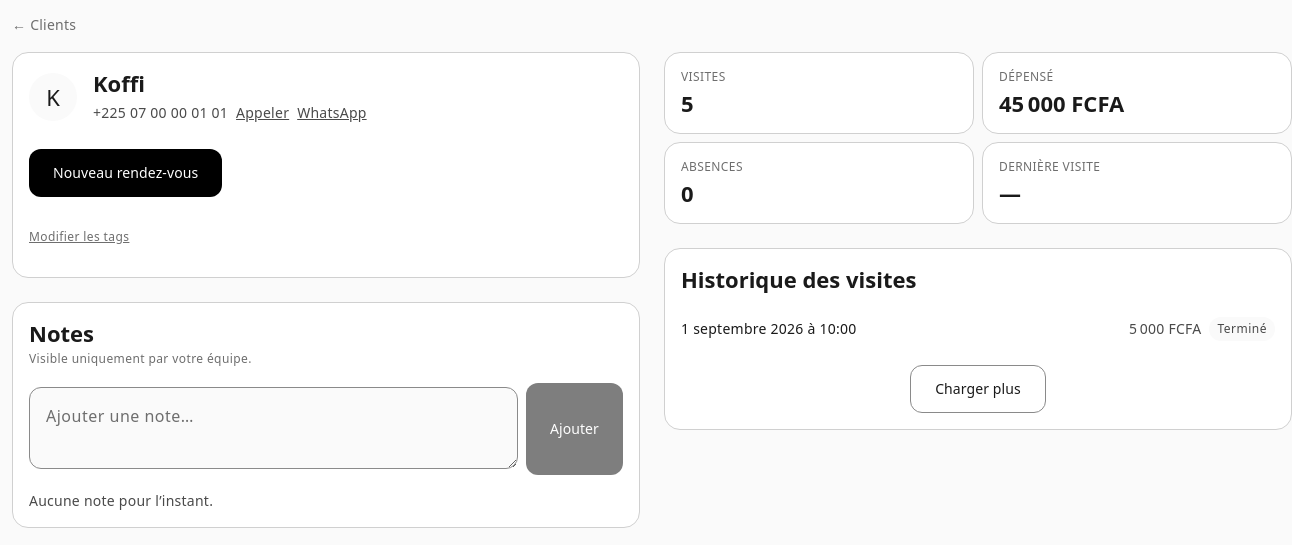
Test: La fiche client — the visit history (B4.1) › « Charger plus » that fails says so and asks for the SAME page again — never skips one
This screenshot has width=1292, height=545.
Step 1. Click the button "Charger plus" → click(978, 389), box [910,365,1046,413]
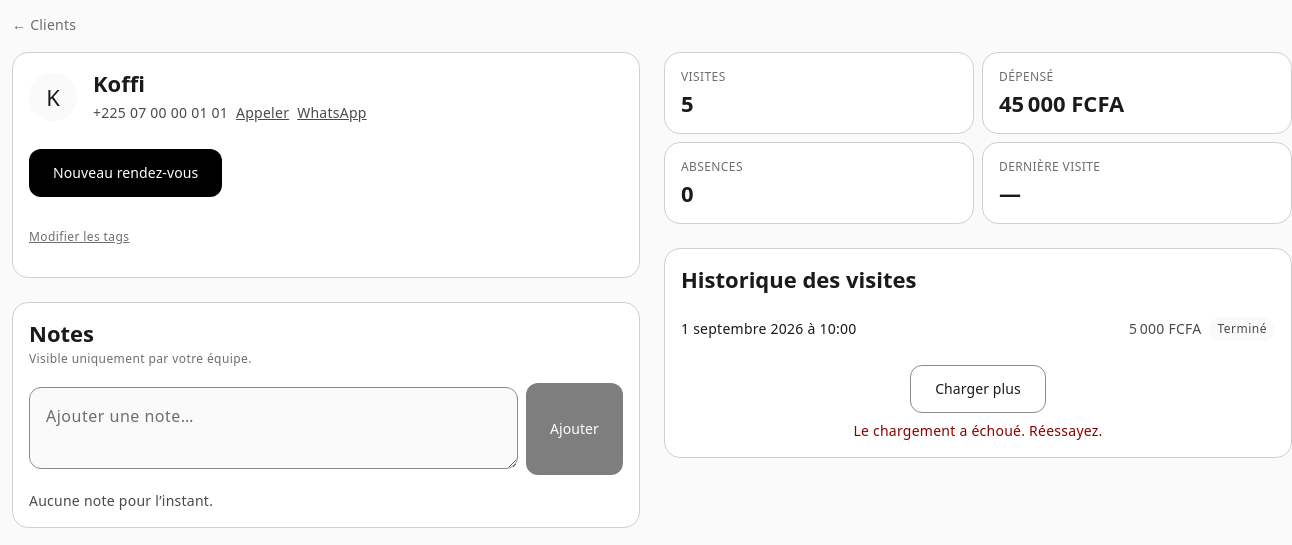
Expected: the text "Le chargement a échoué. Réessayez." is shown, [853,421,1103,440]
Step 2. Click the button "Charger plus" → click(978, 389), box [910,365,1046,413]
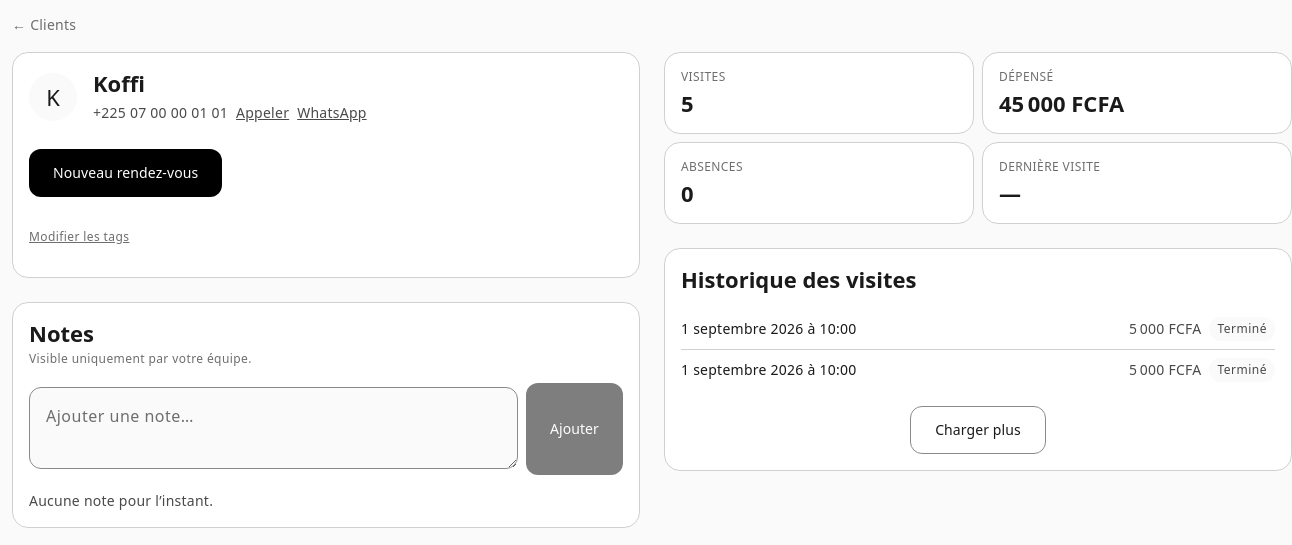
Expected: the text "Le chargement a échoué. Réessayez." is gone
